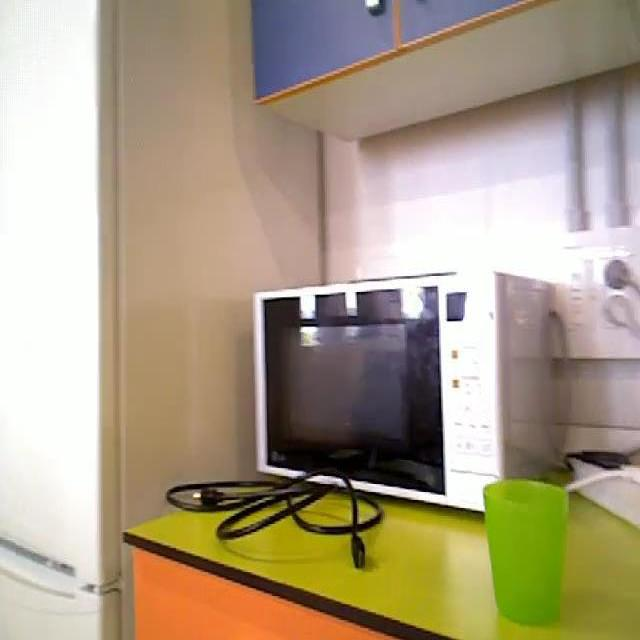cup: (482, 480, 568, 628)
